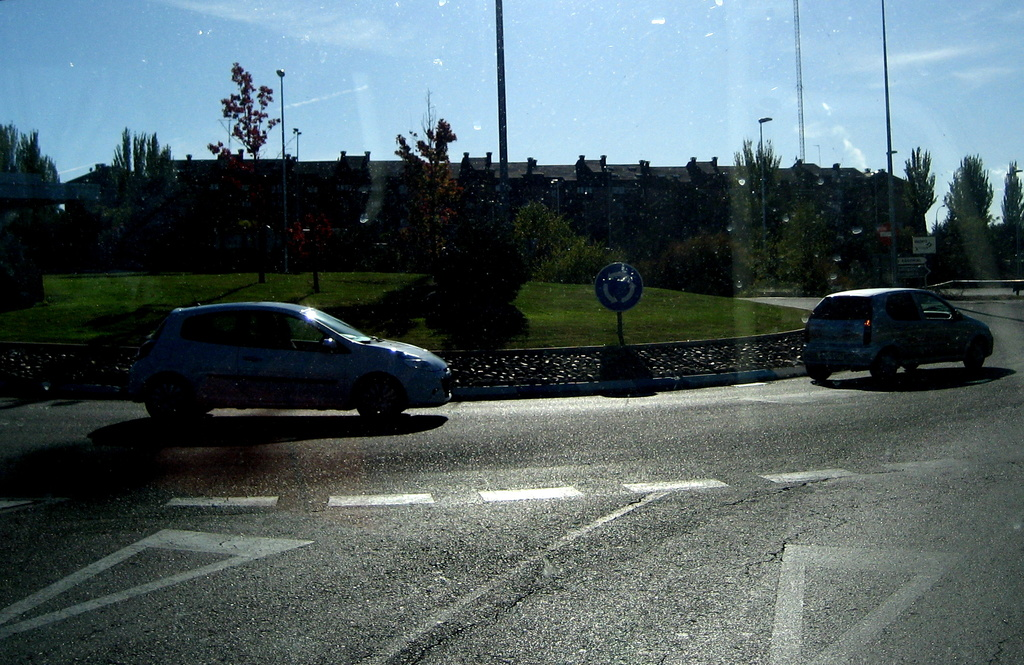Car: (128, 299, 450, 429), (803, 286, 999, 383)
